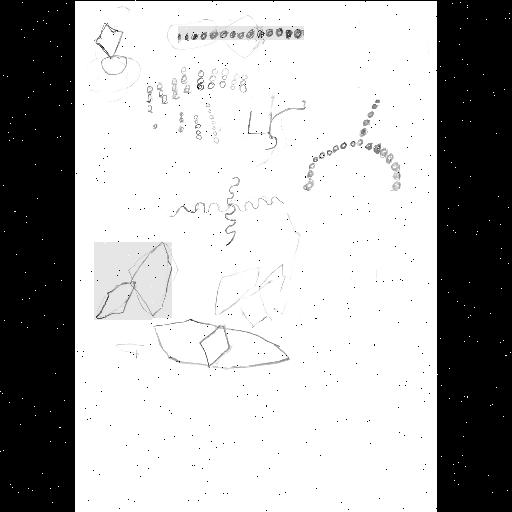shape-1: (98, 20, 128, 76)
shape-2: (178, 26, 304, 40)
shape-3: (147, 66, 249, 110)
shape-4: (152, 103, 220, 145)
shape-5: (246, 98, 306, 150)
shape-6: (307, 100, 399, 190)
shape-7: (168, 174, 286, 246)
shape-8: (94, 242, 172, 320)
shape-9: (153, 318, 289, 370)
